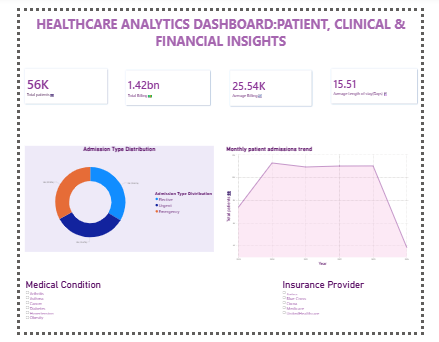

The page's visual inventory and layout, read from the dashboard file:
{"tool":"powerbi","page":{"name":"Page 1","canvas":[2500,2000],"ordinal":0},"visuals":[{"type":"cardVisual","fields":{"Data":["healthcare_dataset.Total patients"]},"box":[0,333.3,573.3,276.7],"z":0},{"type":"cardVisual","fields":{"Data":["healthcare_dataset.Total Billing"]},"box":[630,336.7,583.3,276.7],"z":1000},{"type":"cardVisual","fields":{"Data":["healthcare_dataset.Average Billing"]},"box":[1283.3,336.7,566.7,280],"z":2000},{"type":"cardVisual","fields":{"Data":["healthcare_dataset.Average LOS"]},"box":[1906.7,333.3,593.3,276.7],"z":3000},{"type":"textbox","box":[0,23.3,2500,286.7],"z":4000},{"type":"donutChart","title":" Admission Type Distribution","fields":{"Category":["healthcare_dataset.Admission Type"],"Y":["healthcare_dataset.Total patients👥"]},"box":[34.8,843.5,1178.3,660.9],"z":5000},{"type":"lineChart","title":"Monthly patient admissions trend","fields":{"Category":["healthcare_dataset.Date of Admission.Variation.Date Hierarchy.Year","healthcare_dataset.Date of Admission.Variation.Date Hierarchy.Month"],"Y":["healthcare_dataset.Total patients👥"]},"box":[1282.6,843.5,1147.8,752.2],"z":6000},{"type":"listSlicer","fields":{"Values":["healthcare_dataset.Medical Condition"]},"box":[34.8,1669.6,1200,800],"z":7000},{"type":"listSlicer","fields":{"Values":["healthcare_dataset.Insurance Provider"]},"box":[1630.4,1669.6,573.9,452.2],"z":8000}]}

Visuals, with their boxes in screenshot pixels (x1, y1, x2, y2), scaled from the page's 2500x2000 canvas onto the 439x342 screenshot:
cardVisual - healthcare_dataset.Total patients: Rect(0, 57, 101, 104)
cardVisual - healthcare_dataset.Total Billing: Rect(111, 58, 213, 105)
cardVisual - healthcare_dataset.Average Billing: Rect(225, 58, 325, 105)
cardVisual - healthcare_dataset.Average LOS: Rect(335, 57, 438, 104)
textbox: Rect(0, 4, 438, 53)
" Admission Type Distribution" donutChart: Rect(6, 144, 213, 257)
"Monthly patient admissions trend" lineChart: Rect(225, 144, 427, 273)
listSlicer - healthcare_dataset.Medical Condition: Rect(6, 286, 217, 341)
listSlicer - healthcare_dataset.Insurance Provider: Rect(286, 286, 387, 341)
